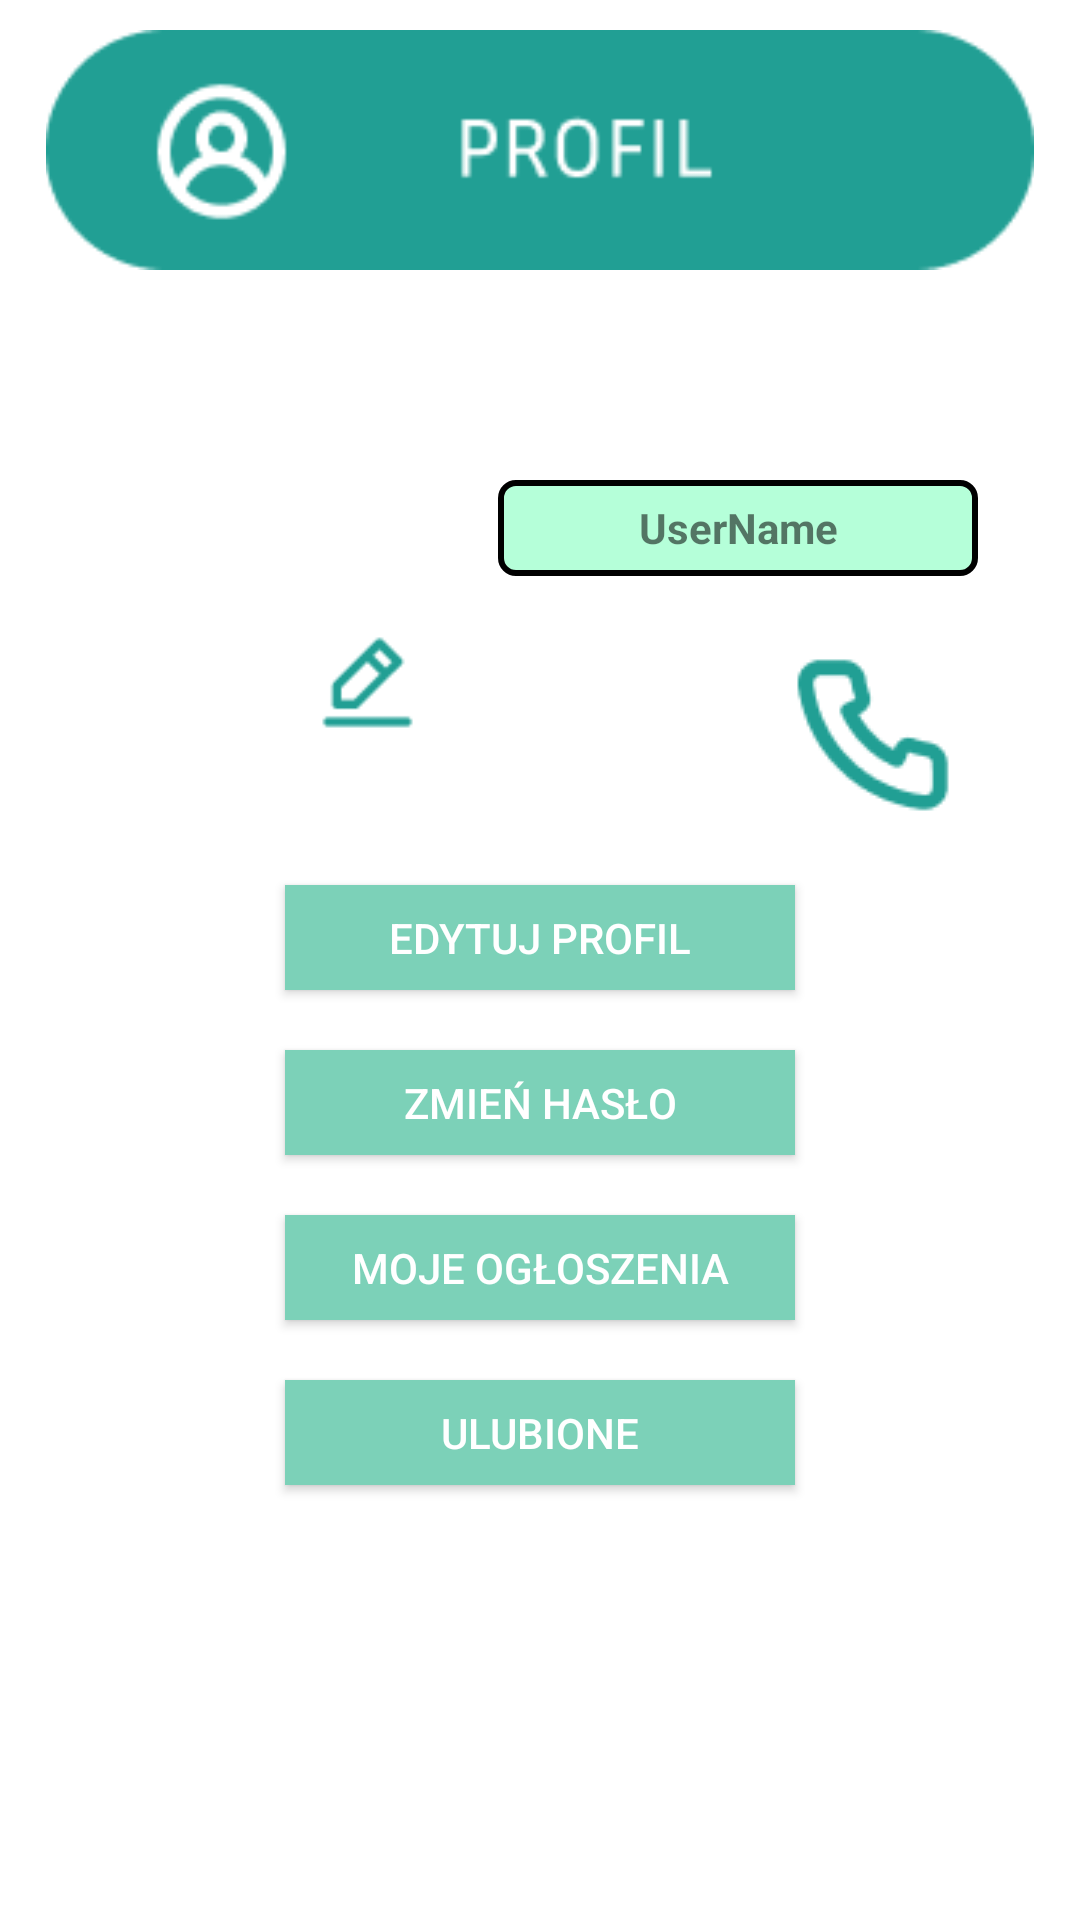

Icon click points for this 1080px×1920px phone screenshot, format (x=x, y=y):
telephone: (x=873, y=735)
